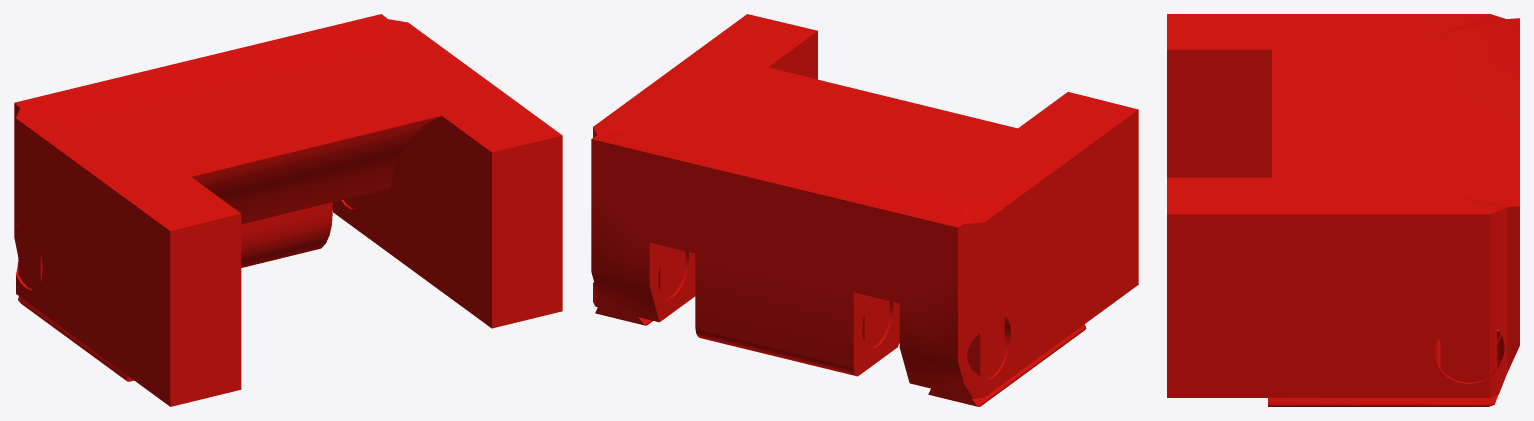
The model's file is p_kabina.fbx.
3 views of the same model, side by side, from view 1: azimuth 30°, elevation 25°; view 2: azimuth 150°, elevation 25°; view 3: azimuth 270°, elevation 25° (orthographic). The views are drawn at different scales.
Parts seen in each view (by area): view 1: kabina.001; view 2: kabina.001; view 3: kabina.001.
Boxes of the visible parts, <box> form: kabina.001: <box>14,14,562,406</box>; kabina.001: <box>591,14,1138,406</box>; kabina.001: <box>1167,14,1519,406</box>.
Size of the model in its own units: 9.4 by 4.34 by 7.
1 material, 1 textured.
